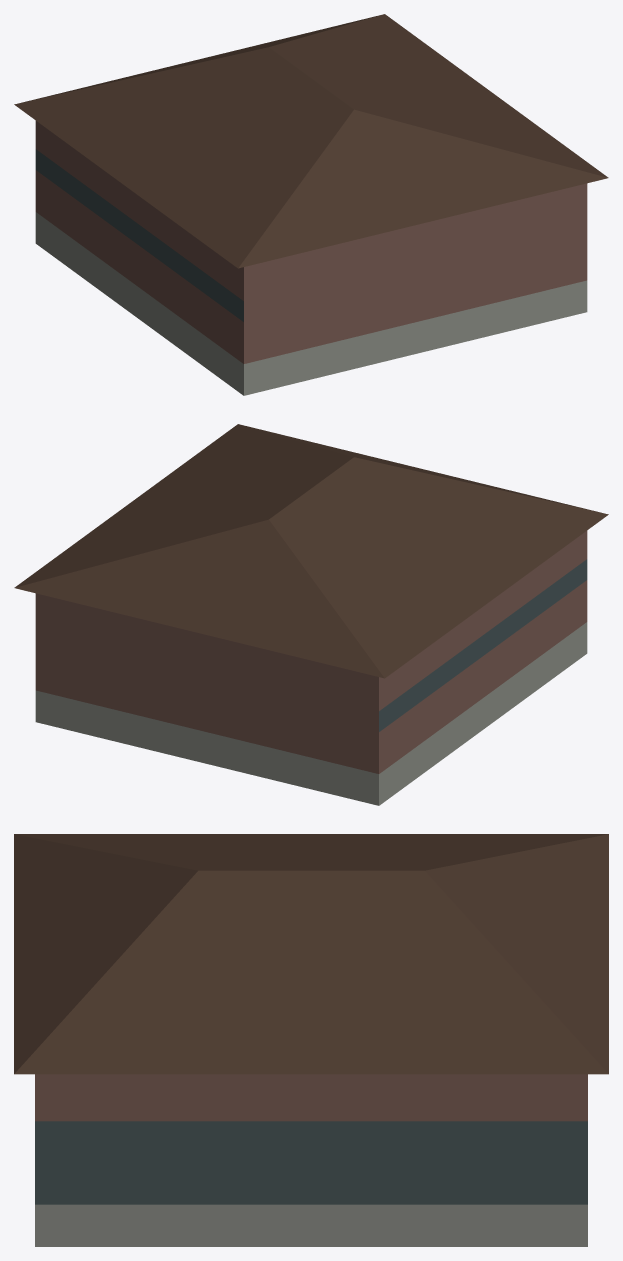
The model's file is far.fbx.
3 renders of one model, top to bottom at view 1: azimuth 30°, elevation 25°; view 2: azimuth 150°, elevation 25°; view 3: azimuth 270°, elevation 25°, orthographic. The views are drawn at different scales.
Visible parts, largest first — view 1: a2000s2/0/far; view 2: a2000s2/0/far; view 3: a2000s2/0/far.
Boxes of the visible parts, x1,y1,x2,y2 form: a2000s2/0/far: (14,14,608,395); a2000s2/0/far: (14,424,608,805); a2000s2/0/far: (14,834,608,1246).
Size of the model in its own units: 10.8 by 5.55 by 11.3.
